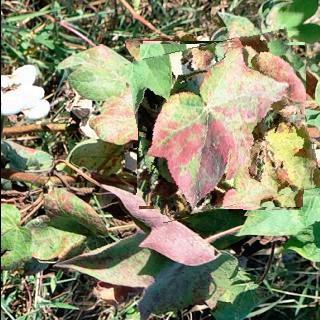blight: (132, 36, 314, 216)
